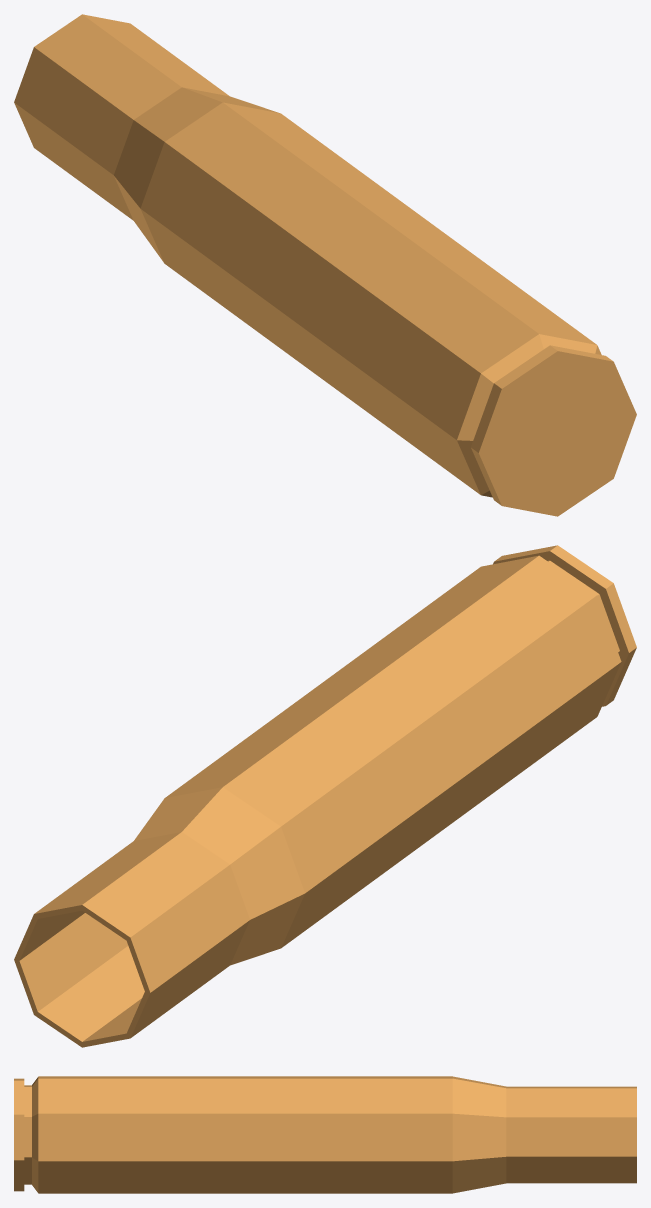
Rendered from case.glb.
The picture shows the model from 3 angles, top to bottom: view 1: azimuth 30°, elevation 25°; view 2: azimuth 150°, elevation 25°; view 3: azimuth 270°, elevation 25°; orthographic projection. The views are drawn at different scales.
Visible parts, largest first — view 1: 30-06-springfield-case; view 2: 30-06-springfield-case; view 3: 30-06-springfield-case.
Boxes of the visible parts, x1=… form: 30-06-springfield-case: x1=14, y1=14, x2=636, y2=516; 30-06-springfield-case: x1=14, y1=545, x2=636, y2=1047; 30-06-springfield-case: x1=14, y1=1076, x2=636, y2=1193.
Size of the model in its own units: 0.0126 by 0.0126 by 0.0628.
